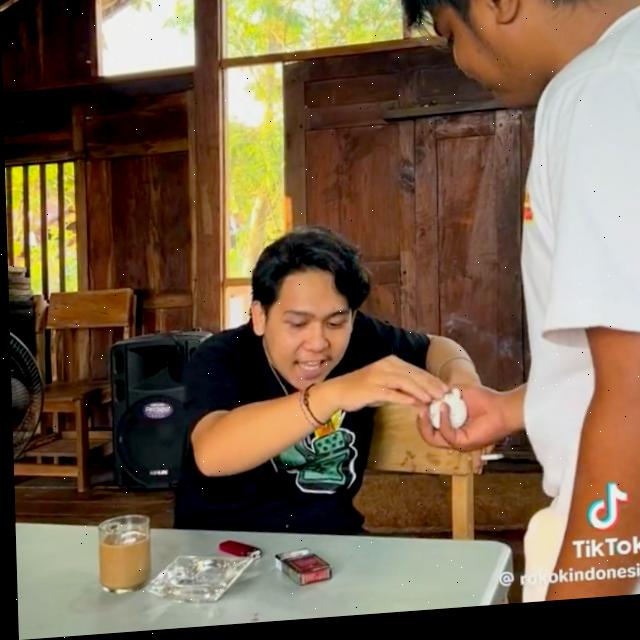cigarette: (478, 461, 501, 467)
